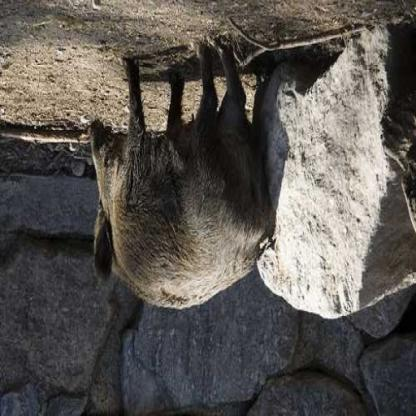boar: (42, 77, 285, 330)
